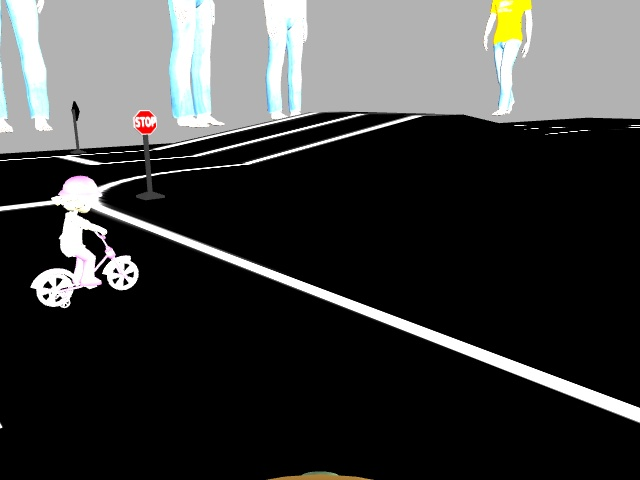Pedestrian: (19, 173, 146, 309)
Stop: (127, 107, 162, 136)
